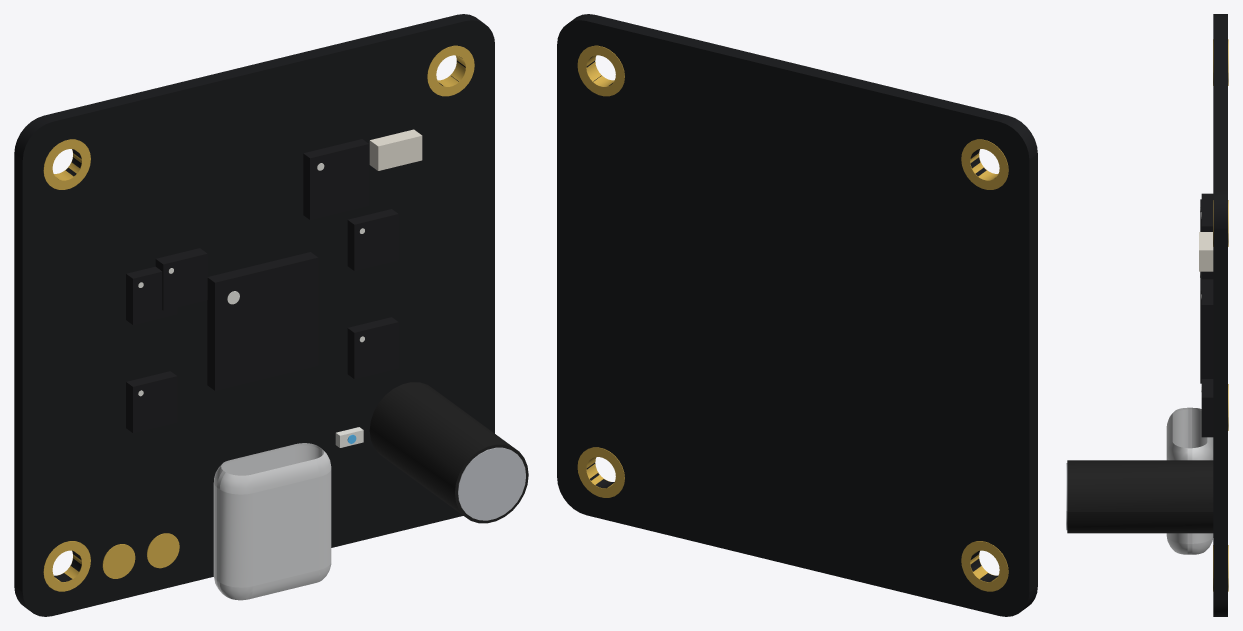
Rendered from betafpv-f722-35a-aio.glb.
3 views of the same model, side by side, from view 1: azimuth 30°, elevation 25°; view 2: azimuth 150°, elevation 25°; view 3: azimuth 270°, elevation 25° (orthographic). The views are drawn at different scales.
Parts seen in each view (by area): view 1: board, usb, mcu, capacitor, receiver, capacitor_top, esc_fet_3, esc_fet_4, esc_fet_1, gyro, esc_fet_2, rx_antenna (+5 smaller); view 2: board, hole_1, hole_2, hole_4, hole_3; view 3: capacitor, board, usb, esc_fet_1, esc_fet_4, mcu, rx_antenna, receiver.
Boxes of the visible parts, bbox=[...] form: board: bbox=[14, 14, 494, 616]; usb: bbox=[213, 443, 331, 600]; mcu: bbox=[207, 252, 318, 390]; capacitor: bbox=[369, 382, 528, 523]; receiver: bbox=[303, 139, 368, 219]; capacitor_top: bbox=[458, 447, 525, 520]; esc_fet_3: bbox=[126, 371, 177, 432]; esc_fet_4: bbox=[347, 317, 398, 378]; esc_fet_1: bbox=[347, 209, 398, 270]; gyro: bbox=[155, 248, 207, 310]; esc_fet_2: bbox=[126, 266, 177, 324]; rx_antenna: bbox=[369, 129, 422, 170]; board: bbox=[557, 14, 1037, 616]; hole_1: bbox=[577, 45, 624, 96]; hole_2: bbox=[961, 139, 1008, 189]; hole_4: bbox=[577, 447, 624, 497]; hole_3: bbox=[961, 541, 1008, 591]; capacitor: bbox=[1067, 460, 1213, 533]; board: bbox=[1213, 14, 1227, 616]; usb: bbox=[1166, 407, 1213, 554]; esc_fet_1: bbox=[1201, 286, 1213, 344]; esc_fet_4: bbox=[1201, 379, 1213, 437]; mcu: bbox=[1200, 271, 1213, 383]; rx_antenna: bbox=[1199, 232, 1213, 271]; receiver: bbox=[1201, 201, 1213, 279].
Bounding box in the file's own units: 32 × 32.54 × 11.08.
